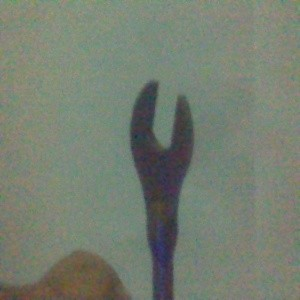spanner: (129, 79, 194, 300)
